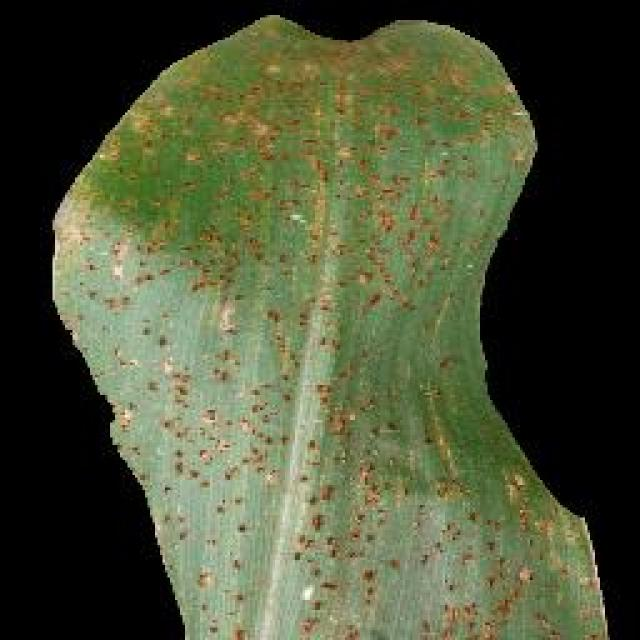Corn Common Rust: (127, 112, 595, 630)
